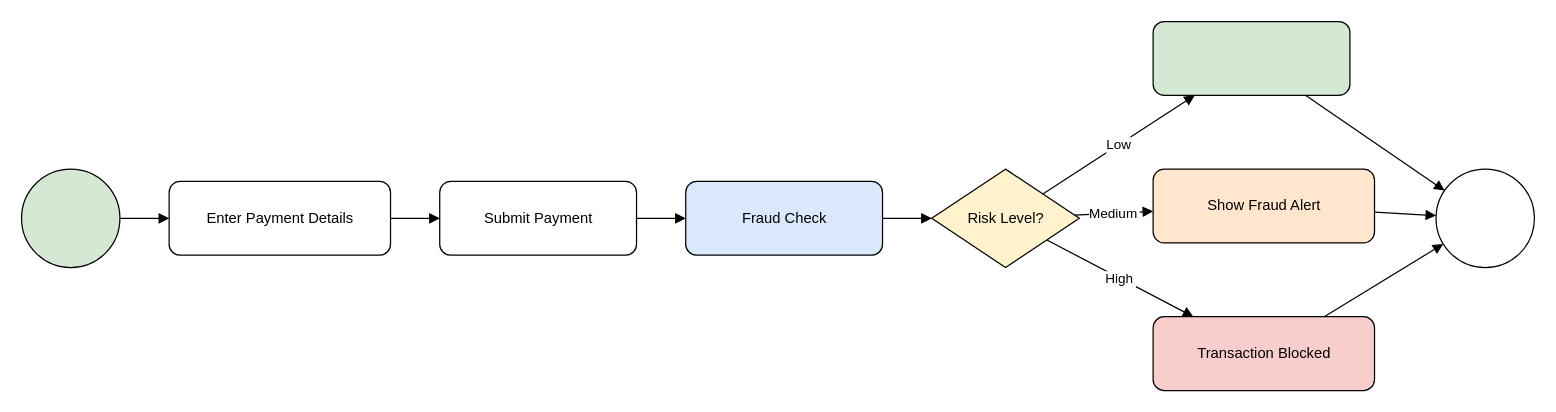
Image size: 1556x412. Some labels were removed from this diagram. The shapes that lost their labels are listed below. From the top down, each one's box as (x1, y1, x2, y2) in pixels, then its label:
(1152, 20, 1350, 95): Payment Success
(20, 168, 120, 268): Start
(1435, 168, 1534, 268): End
